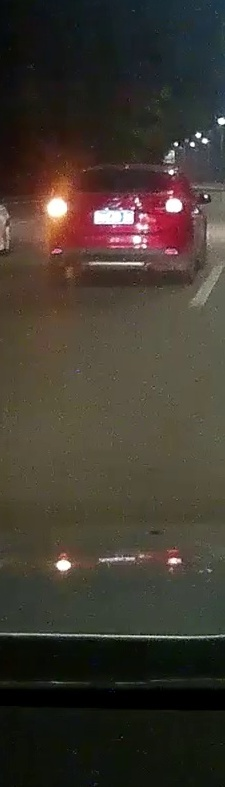L_light: (48, 200, 70, 219)
R_light: (162, 197, 185, 215)
T_light: (115, 170, 134, 174)
night-left: (45, 163, 191, 287)
